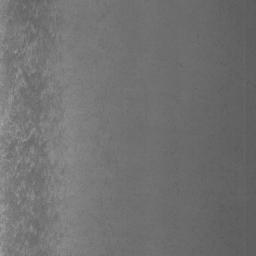Silk spot: (2, 55, 57, 248), (3, 0, 61, 66), (33, 197, 58, 224), (47, 94, 65, 113), (7, 67, 17, 95), (35, 245, 50, 256), (3, 246, 19, 256)
